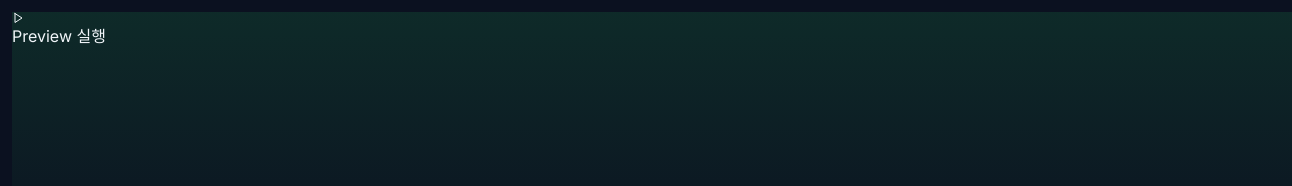
Test case: PreviewRunCard — observed 후 inline iframe 토글 (OSS-H8 iframe) › (I1) observed로 응답하면 iframe 토글 버튼 노출(기본 닫힘 — iframe 본체는 아직 마운트 X)
Click the button with test id "mission-preview-run-cta-m1". click: (59, 30)
box: x1=12 y1=12 x2=106 y2=48
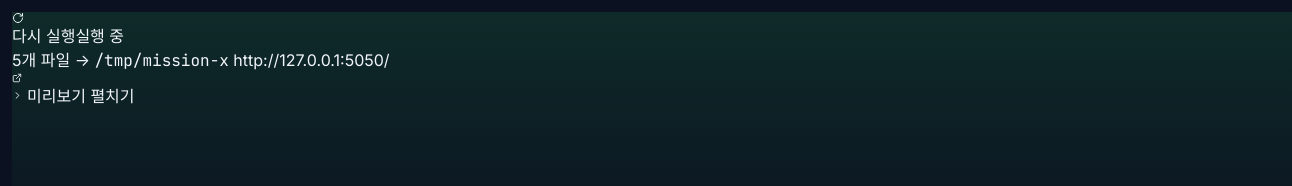
Check: the element with test id "mission-preview-run-m1" has attribute data-state="observed", box x1=12 y1=12 x2=390 y2=108
